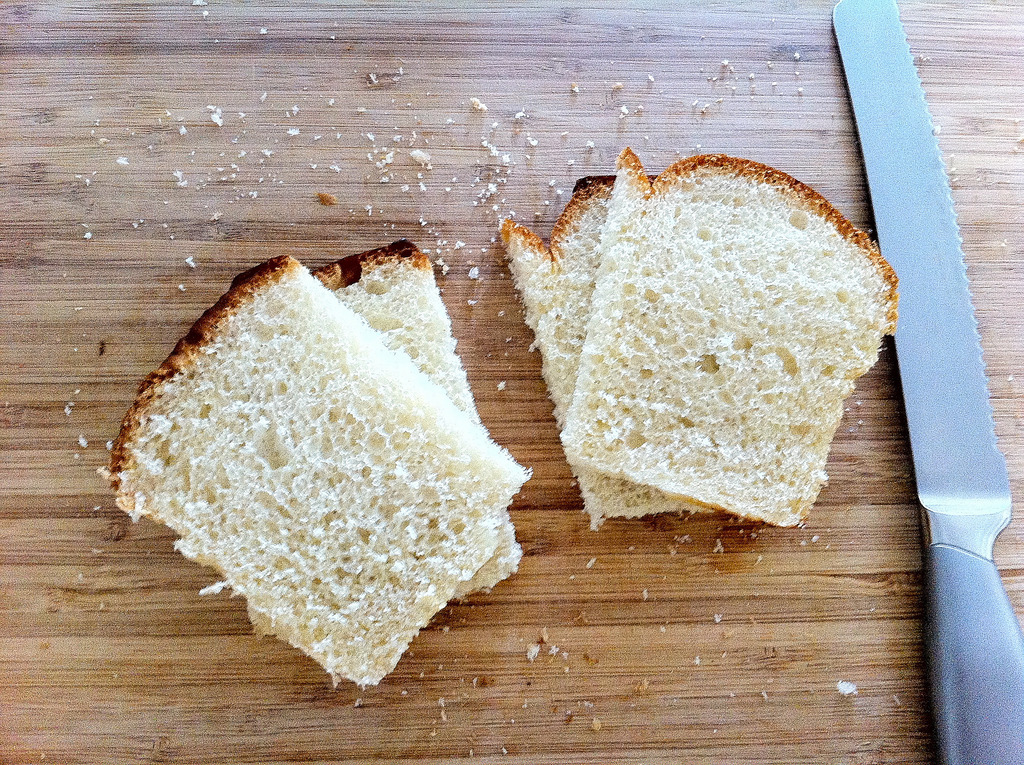slice of bread: (105, 223, 538, 682), (510, 151, 892, 537)
